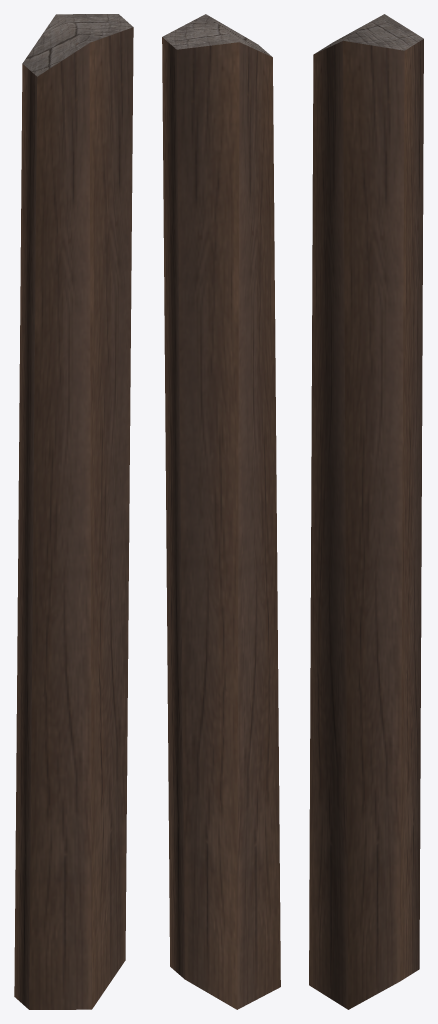
The model's file is jov_rice_rag01a.fbx.
3 renders of one model, left to right at view 1: azimuth 30°, elevation 25°; view 2: azimuth 210°, elevation 25°; view 3: azimuth 330°, elevation 25°, orthographic.
Visible parts, largest first — view 1: jov_rice_rag01a; view 2: jov_rice_rag01a; view 3: jov_rice_rag01a.
Part boxes in pixels (box(x1,y1,x2,y2)): jov_rice_rag01a: box(14, 14, 133, 1009); jov_rice_rag01a: box(162, 14, 280, 1009); jov_rice_rag01a: box(309, 14, 423, 1009).
Size of the model in its own units: 11.87 by 108 by 7.87.
